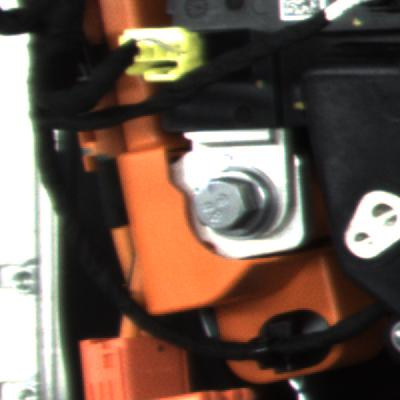nut_b: (181, 158, 280, 245)
